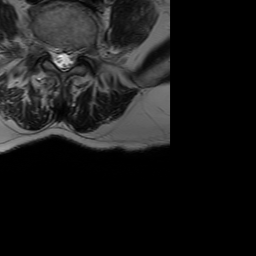CCS_normal: (60, 40, 68, 78)
LFS_normal: (76, 38, 85, 63)
LLS_normal: (68, 41, 76, 72)
RFS_normal: (42, 33, 51, 59)
RLS_normal: (51, 39, 60, 70)
